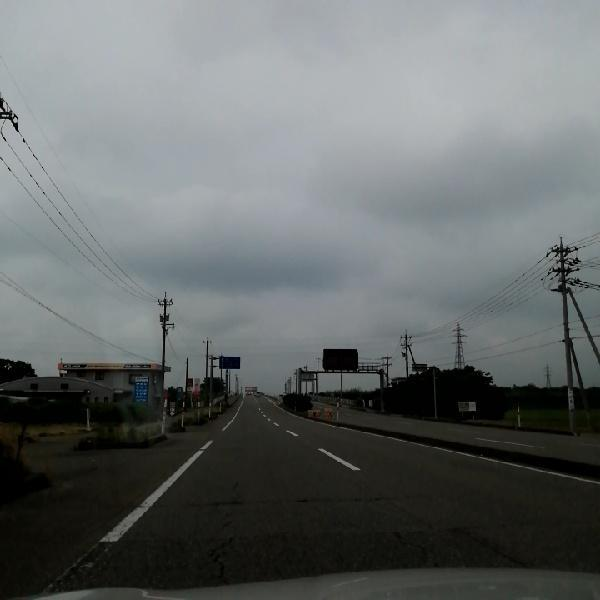D00: (450, 523, 532, 563), (205, 530, 235, 580)
D10: (152, 491, 393, 518)
D44: (14, 440, 216, 597)
